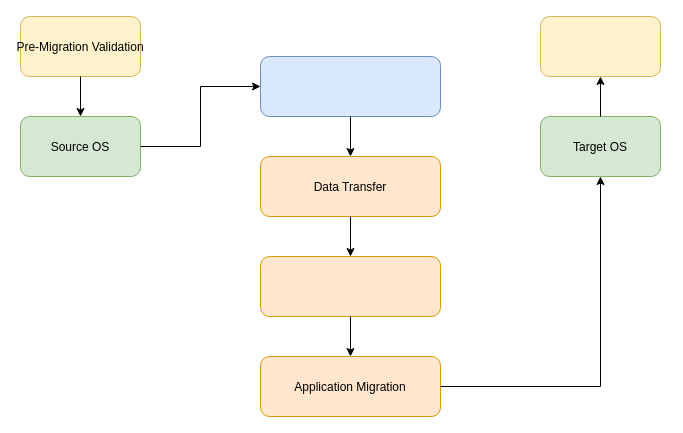
The diagram is 683 pixels wide and 433 high, and some of its shapes have lost their labels. Here are the shapes that lost their labels. From the top down, the centre of each, then its label:
[600,46]: Post-Migration Validation
[350,86]: RiverMeadow Migration Platform
[350,286]: Configuration
